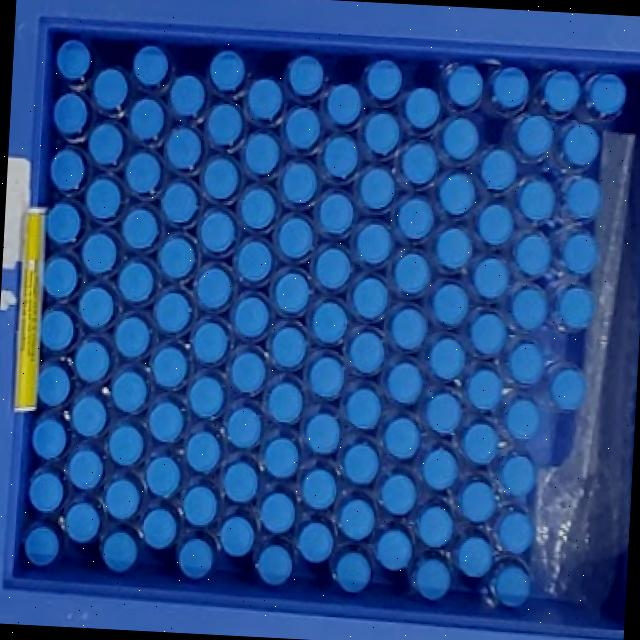vials: (585, 73, 627, 117), (543, 71, 581, 114), (562, 123, 600, 166), (394, 252, 431, 296), (442, 117, 479, 160), (516, 115, 553, 158), (439, 173, 476, 216), (199, 210, 236, 253), (159, 236, 196, 279), (515, 234, 552, 277), (561, 232, 598, 275), (432, 283, 469, 326), (466, 367, 503, 410), (334, 550, 371, 593), (414, 557, 451, 600), (244, 132, 280, 176), (498, 511, 534, 555), (446, 65, 483, 107), (492, 67, 529, 109), (519, 179, 556, 221), (339, 498, 376, 540), (422, 448, 459, 490), (170, 75, 206, 118), (247, 78, 283, 121), (207, 103, 243, 146), (401, 143, 437, 186), (391, 307, 427, 350), (429, 337, 465, 380), (65, 501, 101, 544), (256, 543, 292, 586), (460, 480, 496, 523), (53, 92, 88, 136), (122, 208, 159, 249), (162, 182, 199, 223), (480, 149, 517, 190), (196, 268, 233, 309), (155, 292, 192, 333), (108, 424, 145, 465), (425, 392, 462, 433), (101, 531, 138, 572), (297, 522, 334, 563), (376, 529, 413, 570), (209, 50, 245, 92), (288, 55, 324, 97), (166, 128, 202, 170), (359, 168, 395, 210), (478, 204, 514, 246), (558, 287, 594, 329), (352, 277, 388, 319), (192, 321, 228, 363), (387, 362, 423, 404), (384, 417, 420, 459), (417, 505, 453, 547), (462, 422, 498, 464), (494, 565, 530, 607), (56, 39, 91, 82), (93, 68, 128, 111), (89, 122, 124, 165), (285, 107, 320, 150), (365, 113, 400, 156), (50, 148, 85, 191), (323, 136, 358, 179), (512, 287, 547, 330), (344, 442, 379, 485), (436, 228, 473, 268), (366, 60, 402, 101), (125, 152, 161, 193), (203, 158, 239, 199), (473, 257, 509, 298), (471, 313, 507, 354), (312, 302, 348, 343), (112, 371, 148, 412), (189, 376, 225, 417), (349, 332, 385, 373), (105, 478, 141, 519), (178, 538, 214, 579), (550, 369, 586, 410), (457, 536, 493, 577), (129, 98, 164, 140), (405, 88, 440, 130), (282, 162, 317, 204), (566, 177, 601, 219), (398, 197, 433, 239), (278, 217, 313, 259), (115, 316, 150, 358), (75, 340, 110, 382), (72, 394, 107, 436), (32, 417, 67, 459), (271, 325, 306, 367), (231, 351, 266, 393), (220, 515, 254, 558), (118, 262, 154, 302), (133, 45, 168, 86), (327, 85, 362, 126), (86, 178, 121, 219), (241, 188, 276, 229), (82, 232, 117, 273), (315, 248, 350, 289), (356, 223, 391, 264), (79, 287, 114, 328), (68, 448, 103, 489), (28, 471, 63, 512), (149, 401, 184, 442), (153, 346, 188, 387), (309, 356, 344, 397), (346, 388, 381, 429), (268, 382, 303, 423), (227, 406, 262, 447), (186, 431, 221, 472), (24, 525, 59, 566), (143, 508, 178, 549), (381, 473, 416, 514), (509, 343, 544, 384), (47, 202, 81, 244), (238, 240, 272, 282), (38, 364, 71, 407), (305, 413, 340, 453), (146, 456, 181, 496), (319, 193, 353, 234), (44, 257, 78, 298), (275, 272, 309, 313), (235, 296, 269, 337), (184, 485, 218, 526), (224, 461, 258, 502), (302, 468, 336, 509), (261, 492, 295, 533), (501, 455, 535, 496), (41, 309, 74, 351), (264, 438, 298, 477), (506, 399, 539, 438)
